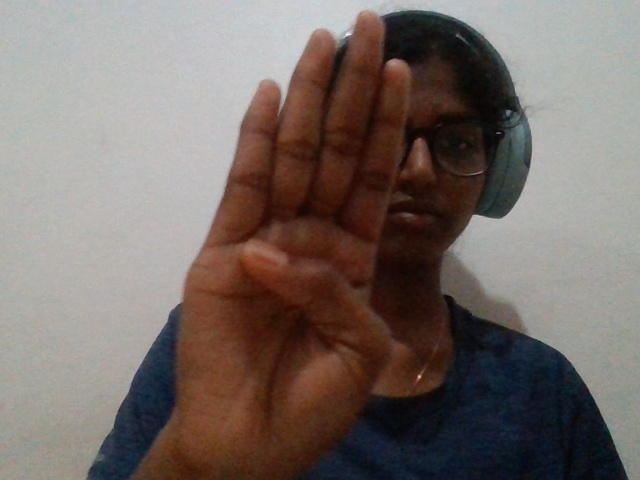B: (158, 9, 402, 478)
